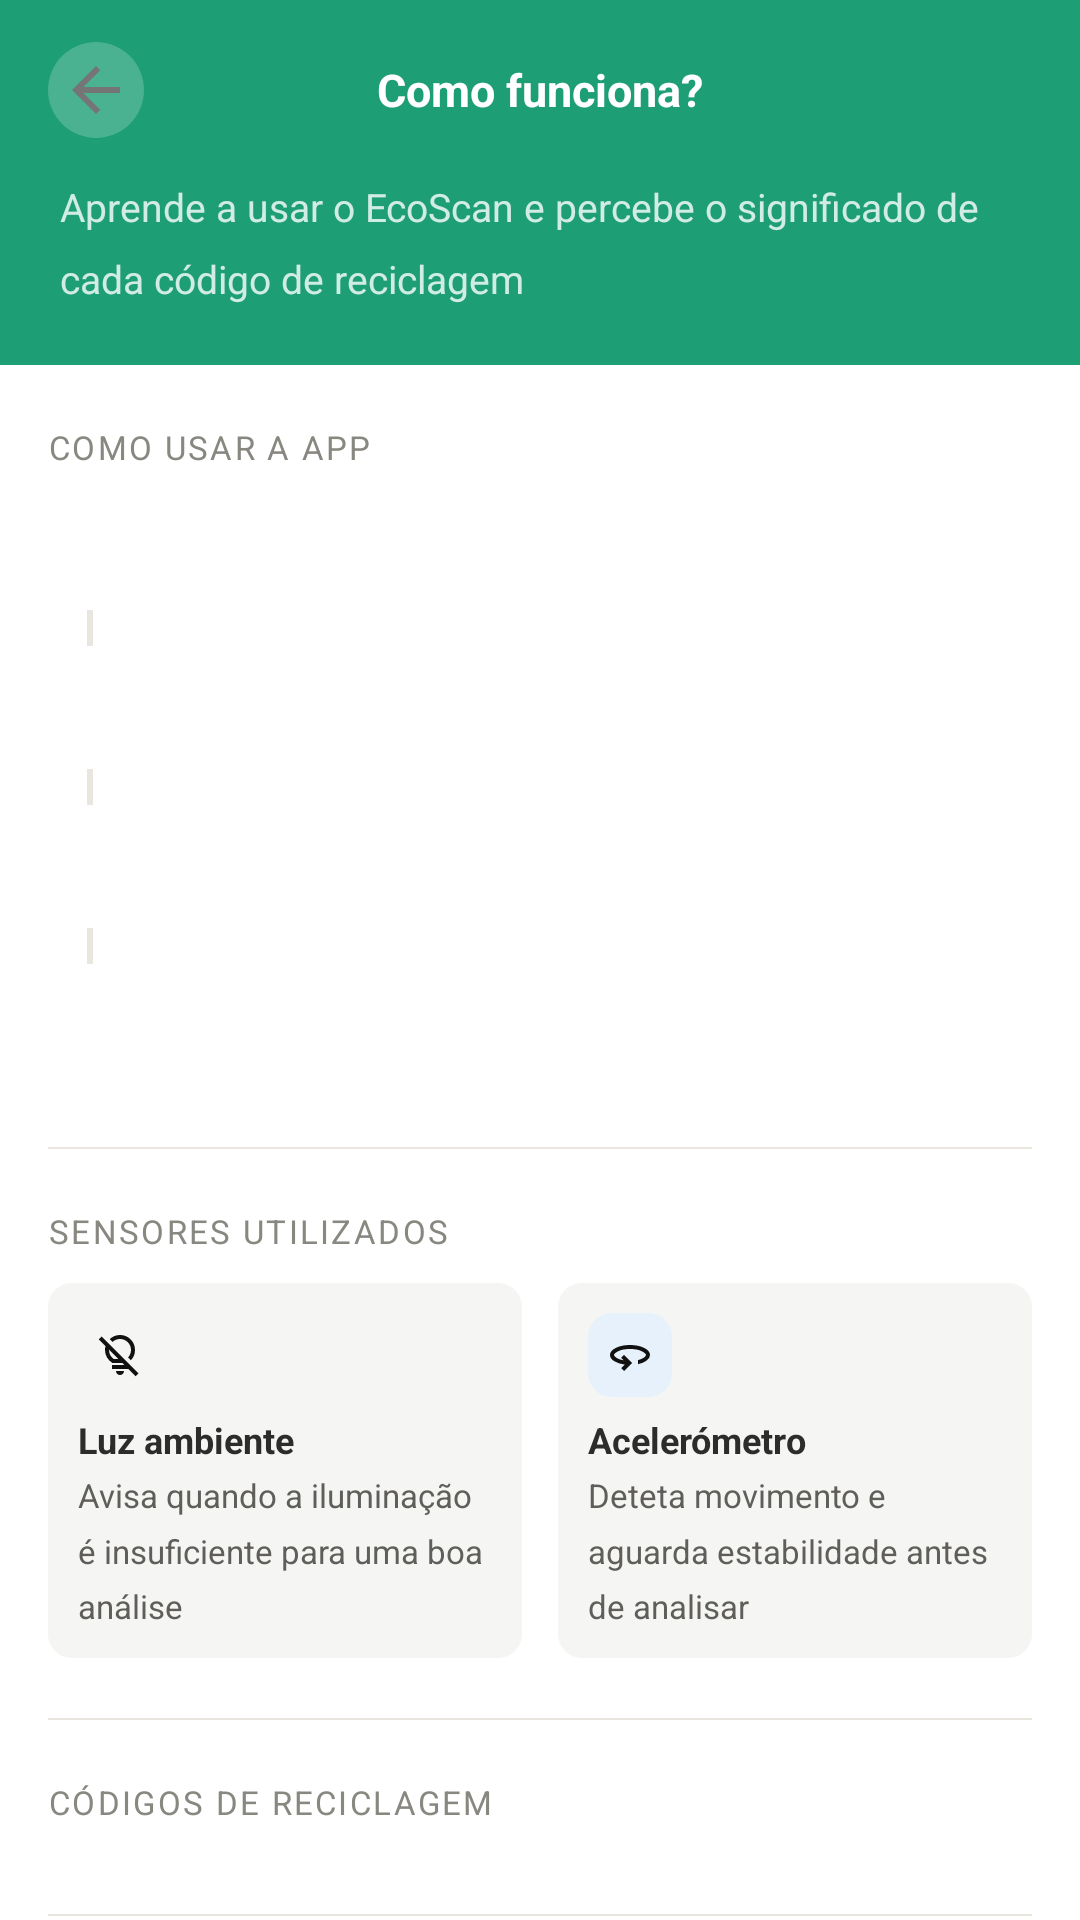

Point at icon controls on the screen. Image size 1080×1920, points as point (x, y).
off: point (119, 1355)
Voltar: point (96, 90)
